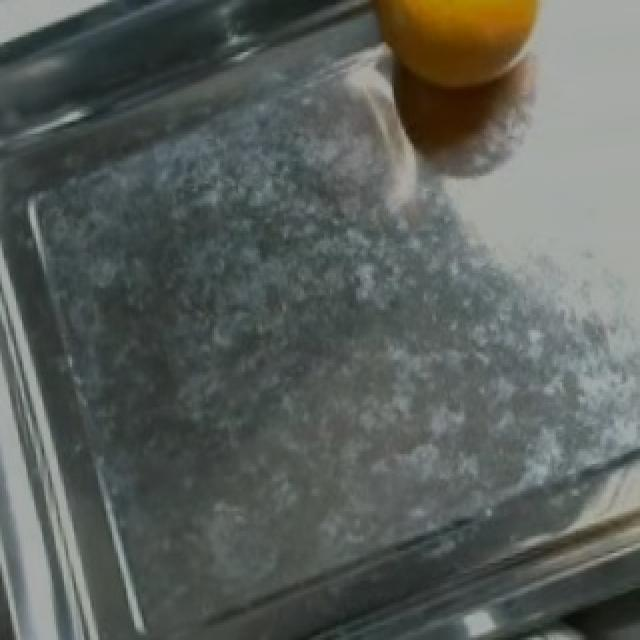Fruit: (332, 0, 570, 122)
